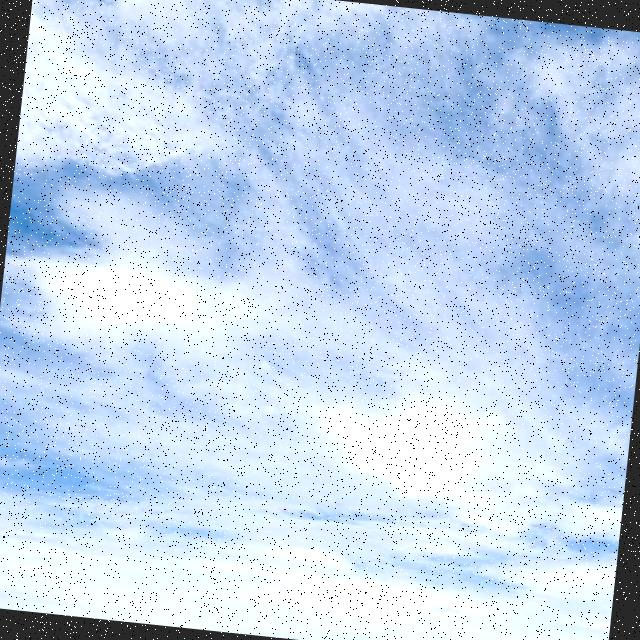As: (1, 1, 640, 602)
